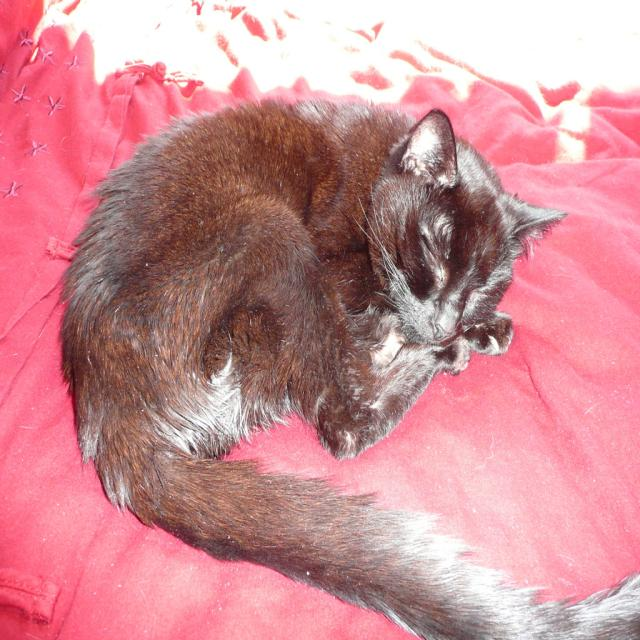Cat: (57, 97, 639, 638)
